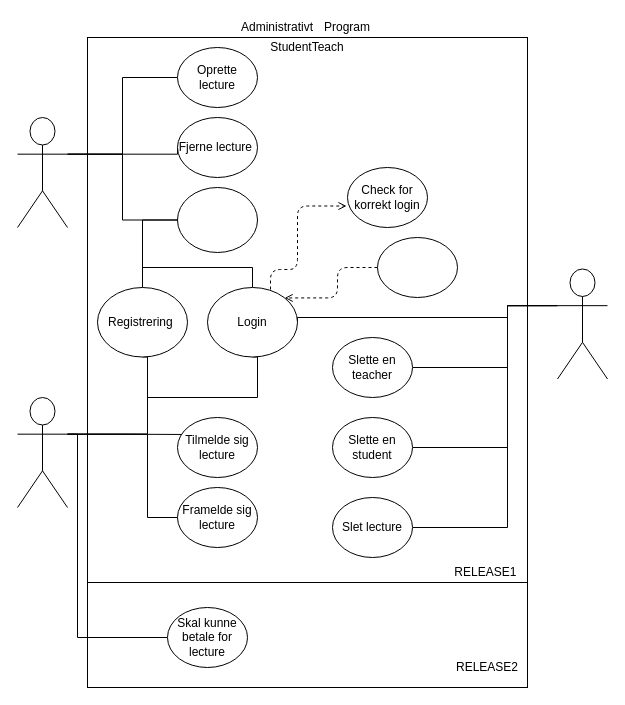
Image size: 625x705. Some labels were removed from this diagram. The shapes that lost their labels are listed below. From the top down, each one's box as (x1, y1, x2, y2) in pixels, then its label:
(16, 116, 68, 228): Teacher
(176, 186, 258, 252): Se informationer om students
(376, 236, 458, 298): Fejl ved login
(556, 268, 608, 379): Admin
(16, 396, 68, 508): Student
